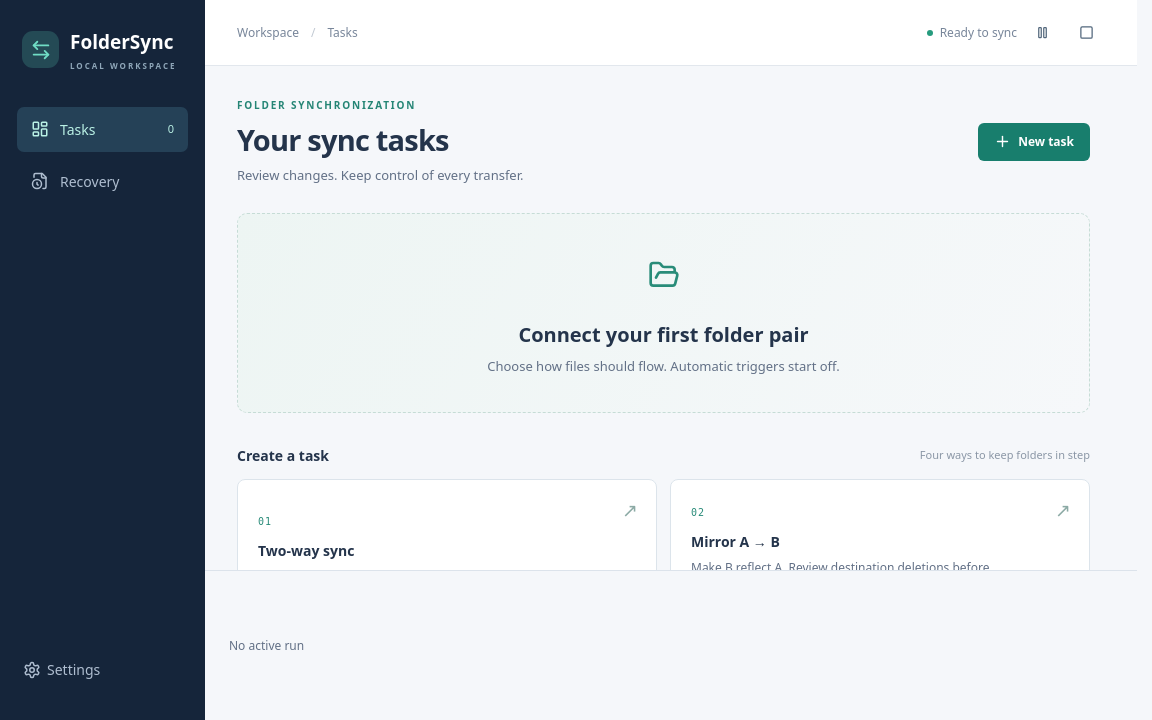
Test case: unsaved task shows a draft ID hint and versioning can be disabled before saving
Step 1. Click the button "New task" → (1034, 142), box [978,123,1090,161]
(page scrolled)
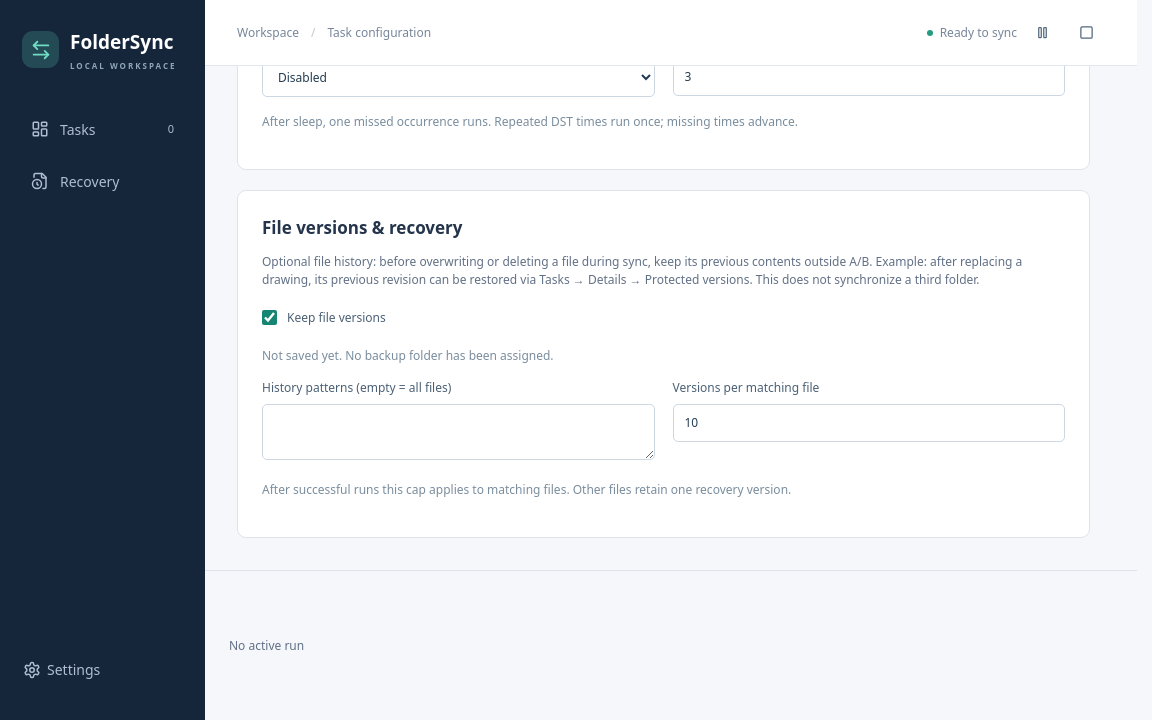
Expected: the text "Not saved yet. No backup folder has been assigned." is shown, [262,347,554,364]
Expected: the checkbox labelled "Keep file versions" is checked
Step 2. Click the checkbox labelled "Keep file versions" → (270, 318), box [262,310,277,325]
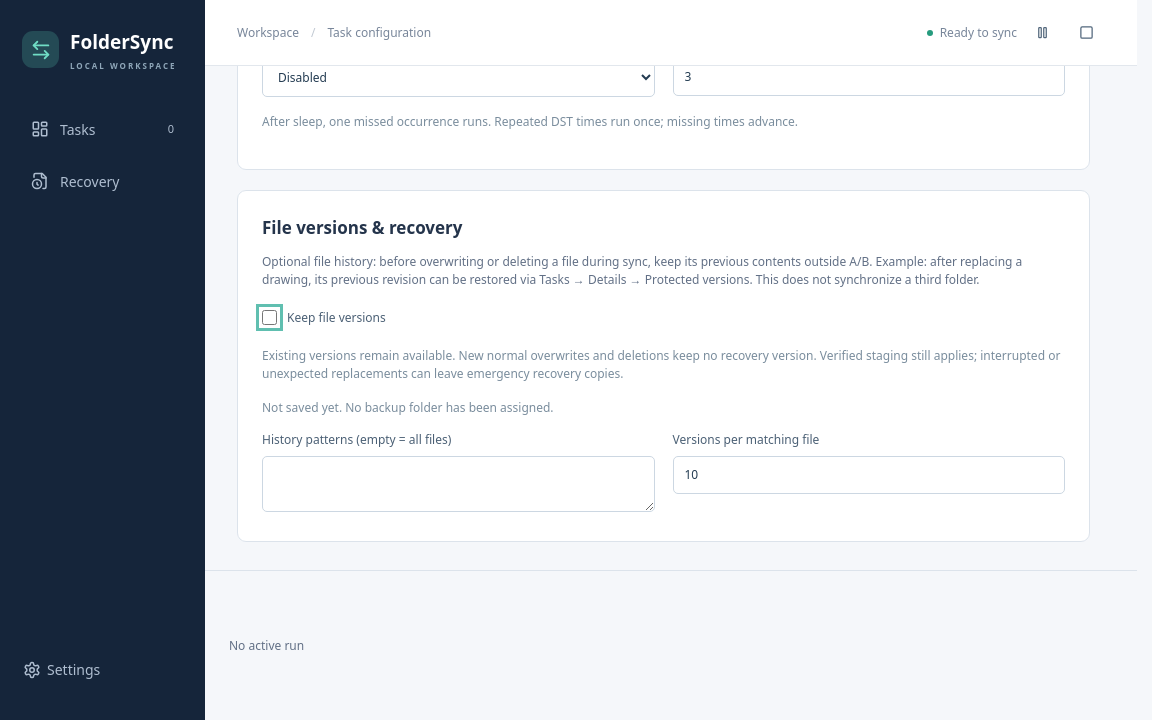
Expected: the number field labelled "Versions per matching file" is disabled, [672,456,1065,494]
Expected: the text "Existing versions remain available" is shown, [262,347,1060,382]
